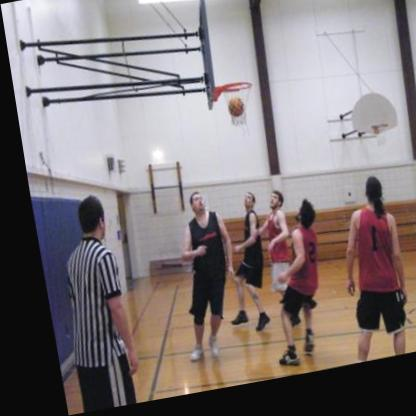basketball: (219, 103, 242, 126)
